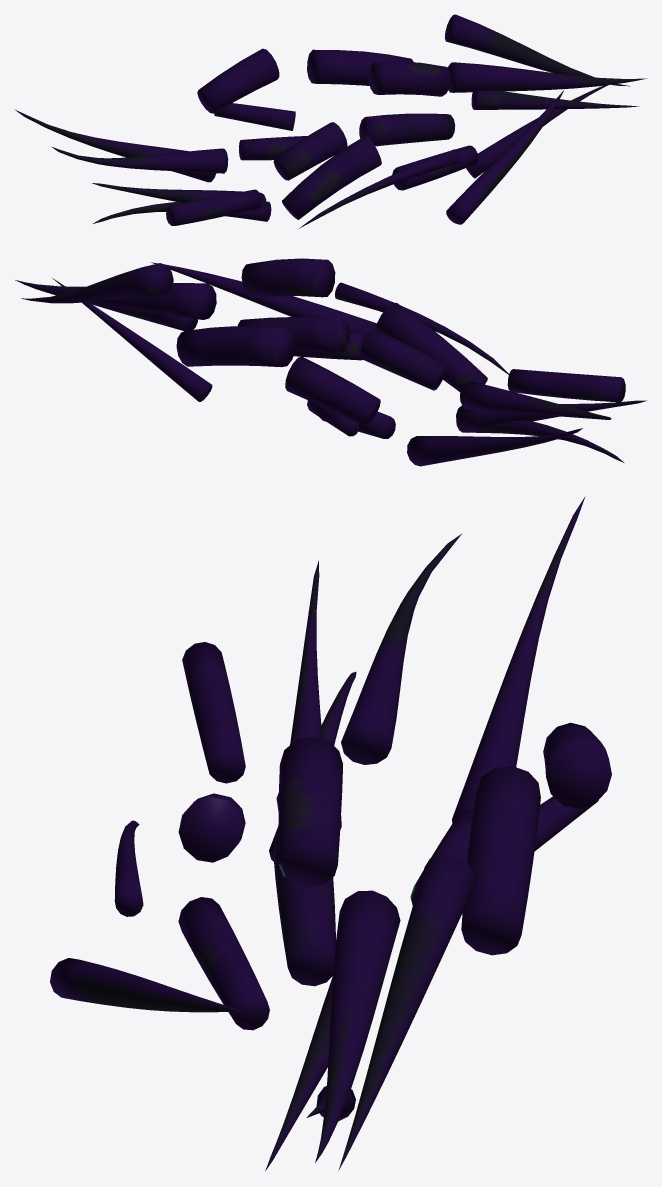
File: PeloDeGato_cortado.fbx
3 renders of one model, top to bottom at view 1: azimuth 30°, elevation 25°; view 2: azimuth 150°, elevation 25°; view 3: azimuth 270°, elevation 25°, orthographic. The views are drawn at different scales.
Parts seen in each view (by area): view 1: PeloDeGato_cortado; view 2: PeloDeGato_cortado; view 3: PeloDeGato_cortado.
Part boxes in pixels (box(x1,y1,x2,y2)): PeloDeGato_cortado: box(14, 14, 647, 228); PeloDeGato_cortado: box(15, 258, 646, 466); PeloDeGato_cortado: box(50, 496, 611, 1171).
Size of the model in its own units: 301 by 72.77 by 129.
Materials: 1 (1 with a texture image).
